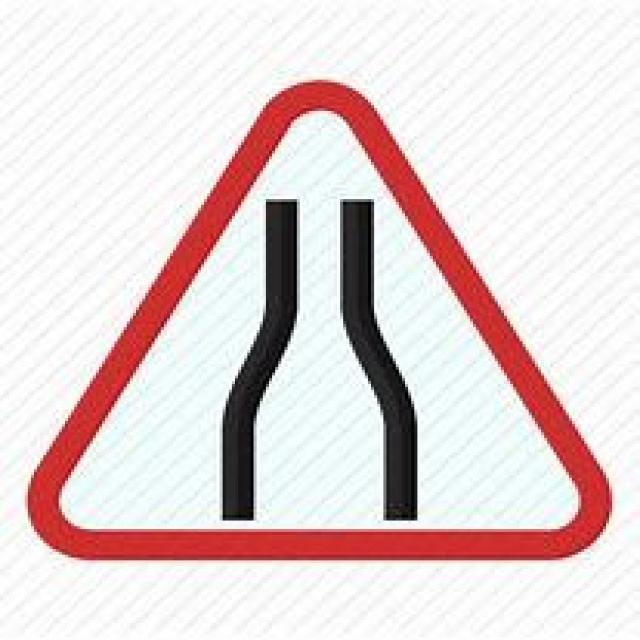NARROW_ROAD_AHEAD: (25, 80, 614, 561)
